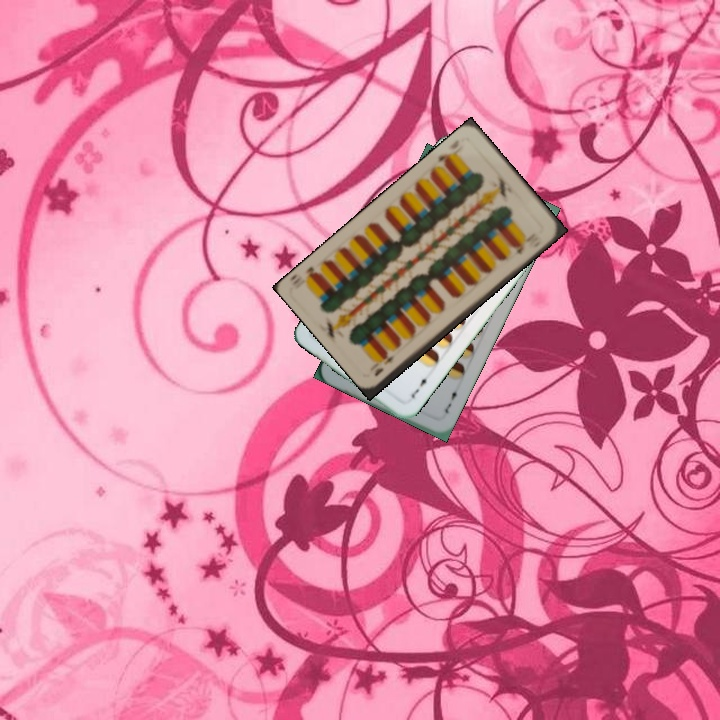E10: (370, 351, 398, 379), (434, 149, 455, 169)
E7: (407, 372, 432, 401), (440, 384, 461, 416)
